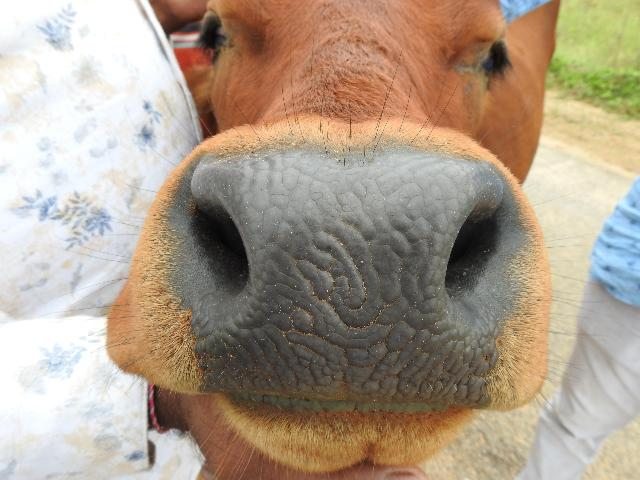Muzzle: (190, 152, 480, 404)
